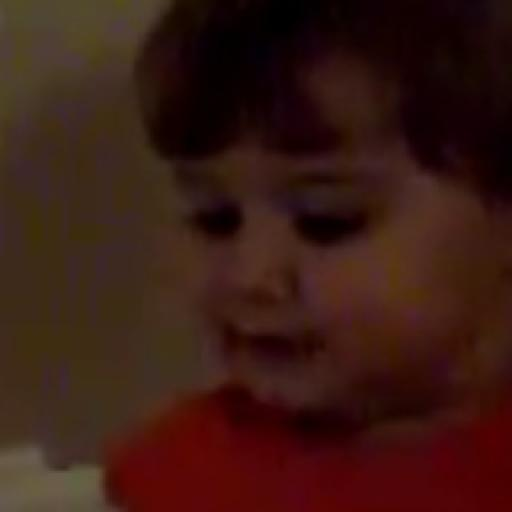Autism: (114, 11, 512, 510)
